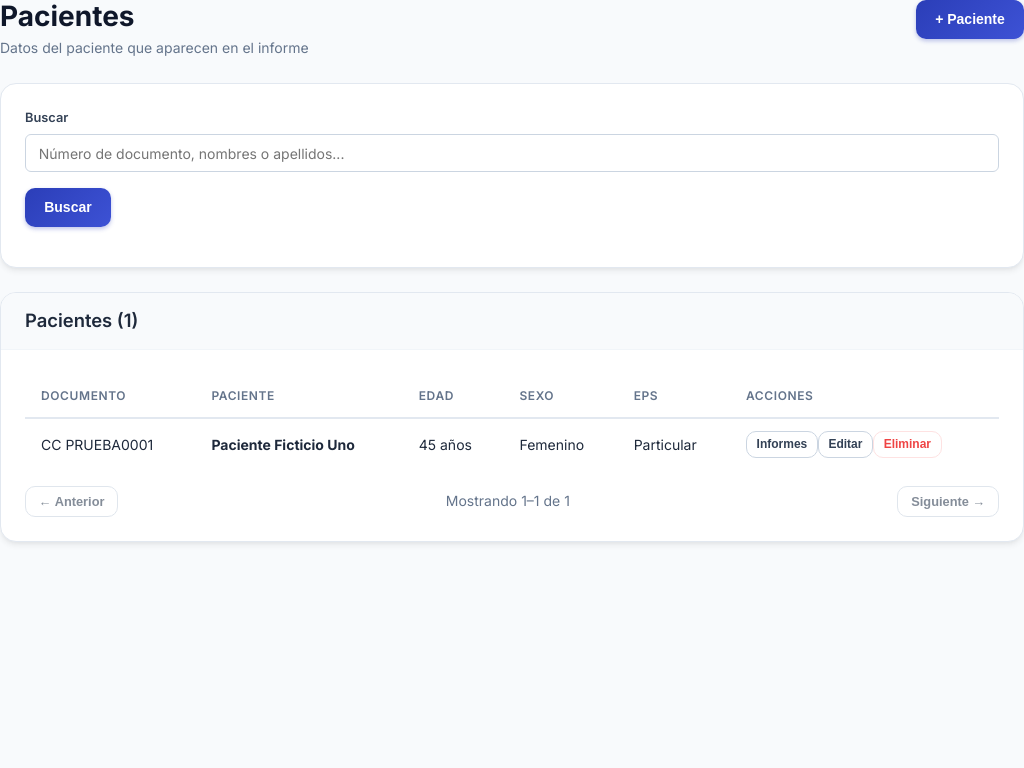
Test: PacientesPage › el admin elimina y ve el error si el backend lo rechaza
Click the button "Eliminar".
click(907, 445)  # box [873,431,942,458]
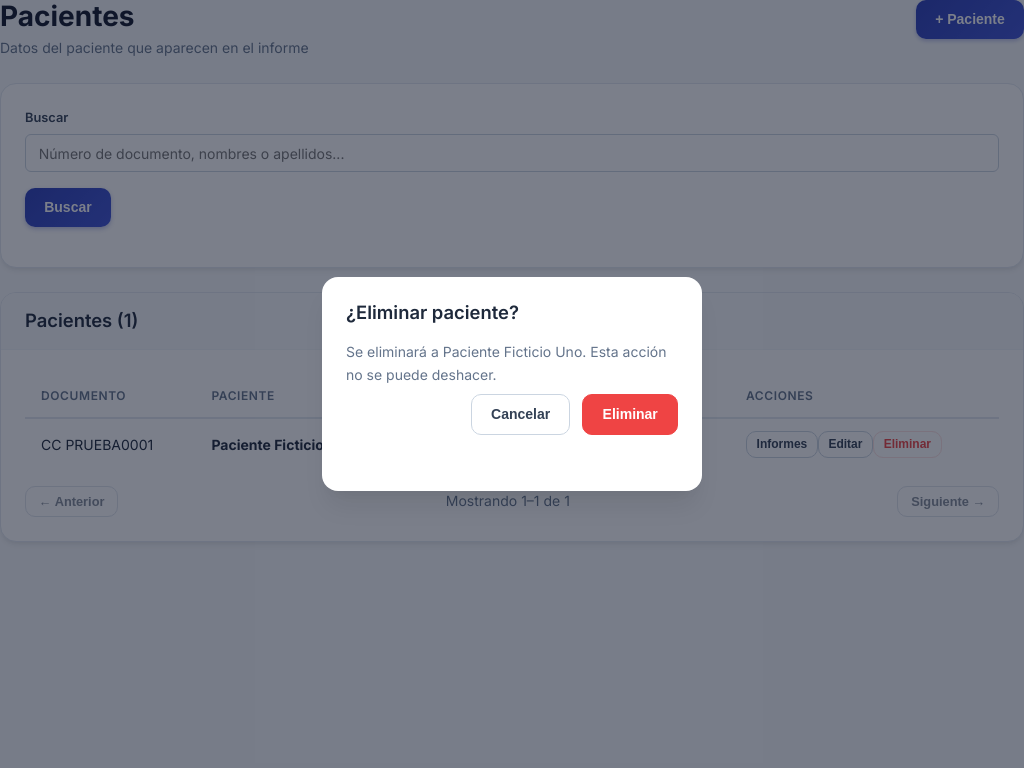
Click the button "Eliminar".
click(630, 414)  # box [582,394,678,435]
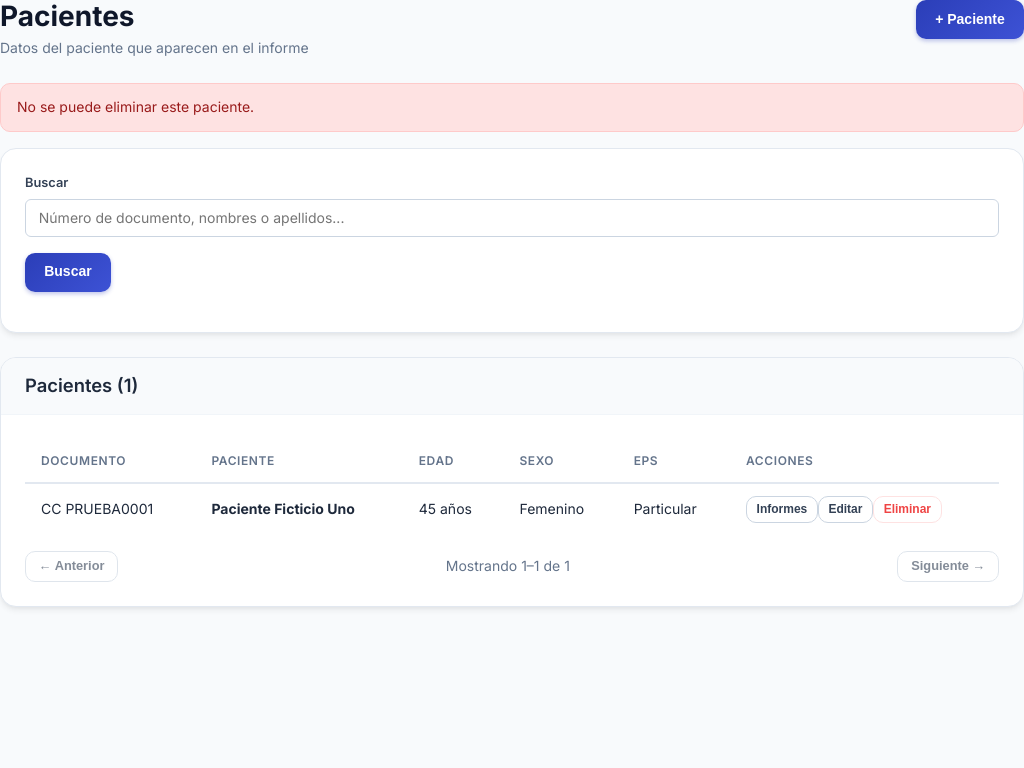
expect the text "No se puede eliminar este paciente." is shown: met, box [0,83,1023,132]
